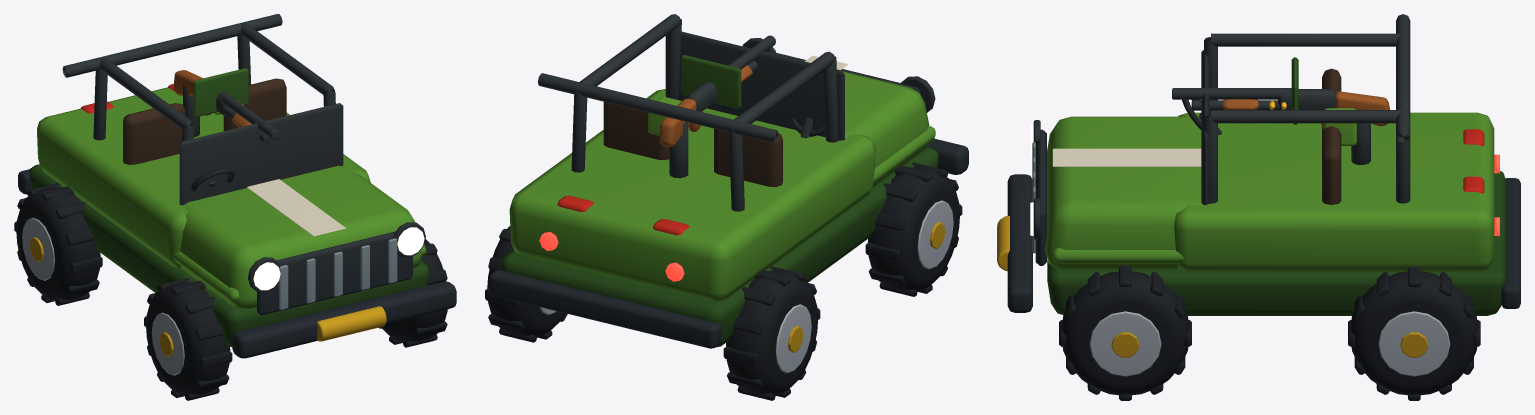
The model's file is jeep.glb.
3 views of the same model, side by side, from view 1: azimuth 30°, elevation 25°; view 2: azimuth 150°, elevation 25°; view 3: azimuth 270°, elevation 25° (orthographic). The views are drawn at different scales.
Parts seen in each view (by area): view 1: Engine hood, Body tub, Windscreen frame, Chassis, Front bumper, Grille, Offroad tire.001, Offroad tire, Seat back, Roll bar cross, Hood stripe, Gun shield (+20 smaller); view 2: Body tub, Chassis, Windscreen frame, Rear bumper, Offroad tire, Offroad tire.001, Engine hood, Roll bar cross, Seat back, Seat back.001, Gun shield, Offroad tire.003 (+18 smaller); view 3: Body tub, Engine hood, Chassis, Offroad tire.003, Offroad tire.002, Front bumper, Wheel rim.011, Wheel rim.009, Hood stripe, Roll bar roof, Roll bar roof.001, Rear bumper (+16 smaller).
Part boxes in pixels (<box>): Engine hood: <box>180,165,421,308</box>; Body tub: <box>37,87,370,267</box>; Windscreen frame: <box>179,103,343,205</box>; Chassis: <box>29,164,429,346</box>; Front bumper: <box>232,281,456,358</box>; Grille: <box>257,231,412,315</box>; Offroad tire.001: <box>16,187,100,301</box>; Offroad tire: <box>146,282,230,396</box>; Seat back: <box>123,103,185,164</box>; Roll bar cross: <box>62,14,282,77</box>; Hood stripe: <box>247,179,345,236</box>; Gun shield: <box>193,68,248,117</box>; Body tub: <box>509,89,875,300</box>; Chassis: <box>501,147,938,347</box>; Windscreen frame: <box>665,31,844,140</box>; Rear bumper: <box>489,270,720,348</box>; Offroad tire: <box>867,167,959,291</box>; Offroad tire.001: <box>726,271,818,395</box>; Engine hood: <box>842,71,929,187</box>; Roll bar cross: <box>538,73,778,142</box>; Seat back: <box>714,128,782,186</box>; Seat back.001: <box>603,102,669,160</box>; Gun shield: <box>681,55,741,108</box>; Offroad tire.003: <box>487,226,565,337</box>; Body tub: <box>1174,112,1494,271</box>; Engine hood: <box>1045,116,1202,269</box>; Chassis: <box>1047,171,1506,315</box>; Offroad tire.003: <box>1350,271,1477,395</box>; Offroad tire.002: <box>1062,271,1189,395</box>; Front bumper: <box>1007,174,1032,312</box>; Wheel rim.011: <box>1378,311,1450,376</box>; Wheel rim.009: <box>1089,311,1161,376</box>; Hood stripe: <box>1052,148,1201,166</box>; Roll bar roof: <box>1211,33,1402,46</box>; Roll bar roof.001: <box>1211,110,1402,123</box>; Rear bumper: <box>1501,178,1520,308</box>.
Size of the model in its own units: 2.42 by 2.07 by 3.74.
14 materials, 12 textured.
